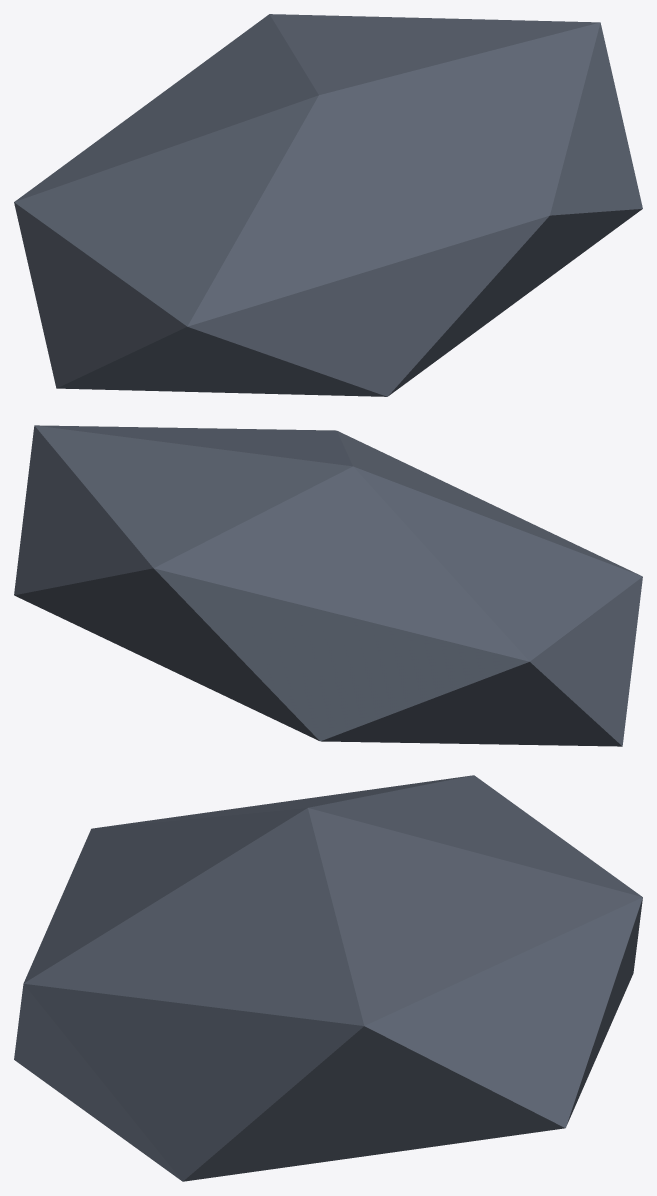
File: EXTG_SouthLooseStone_02.glb
3 renders of one model, top to bottom at view 1: azimuth 30°, elevation 25°; view 2: azimuth 150°, elevation 25°; view 3: azimuth 270°, elevation 25°, orthographic. The views are drawn at different scales.
Parts seen in each view (by area): view 1: EXTG_SouthLooseStone_02; view 2: EXTG_SouthLooseStone_02; view 3: EXTG_SouthLooseStone_02.
Part boxes in pixels (bbox=[...]): EXTG_SouthLooseStone_02: bbox=[14, 14, 642, 396]; EXTG_SouthLooseStone_02: bbox=[14, 425, 642, 746]; EXTG_SouthLooseStone_02: bbox=[14, 775, 642, 1181].
Size of the model in its own units: 0.9239 by 0.3713 by 0.6638.
